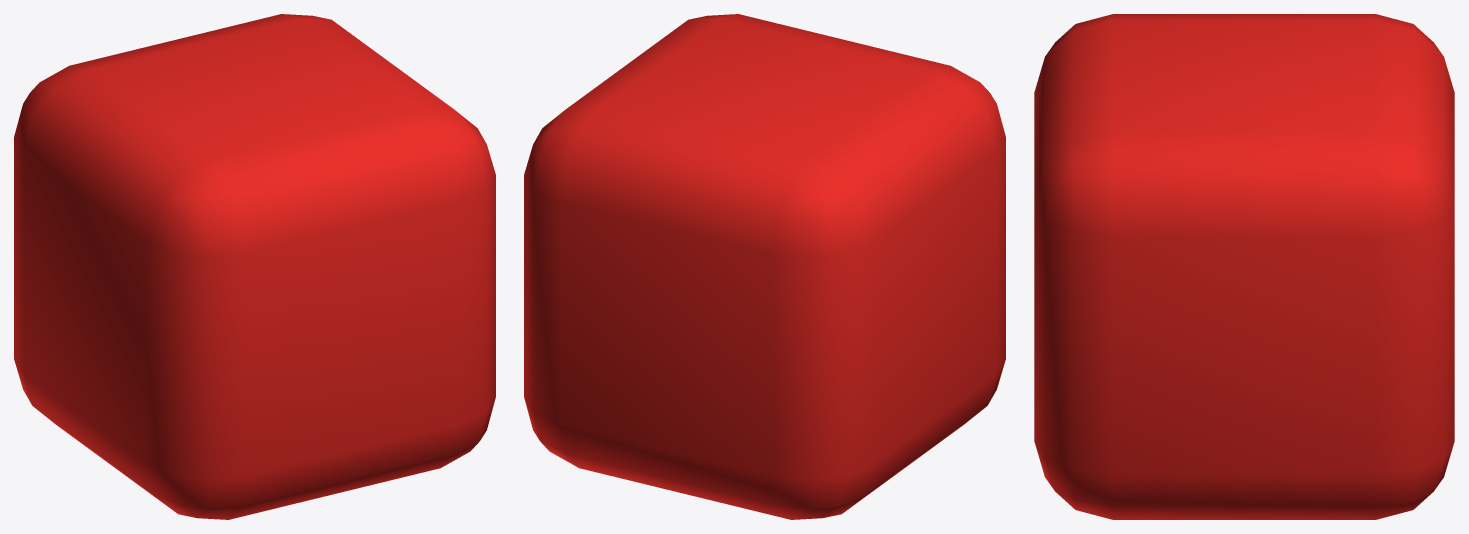
Rendered from temp_sensor.glb.
3 views of the same model, side by side, from view 1: azimuth 30°, elevation 25°; view 2: azimuth 150°, elevation 25°; view 3: azimuth 270°, elevation 25° (orthographic). The views are drawn at different scales.
Parts seen in each view (by area): view 1: temp_sensor; view 2: temp_sensor; view 3: temp_sensor.
Boxes of the visible parts, box(x1,y1,x2,y2) form: temp_sensor: box(14, 14, 495, 519); temp_sensor: box(524, 14, 1005, 519); temp_sensor: box(1034, 14, 1454, 519).
Size of the model in its own units: 0.0774 by 0.0774 by 0.0774.
